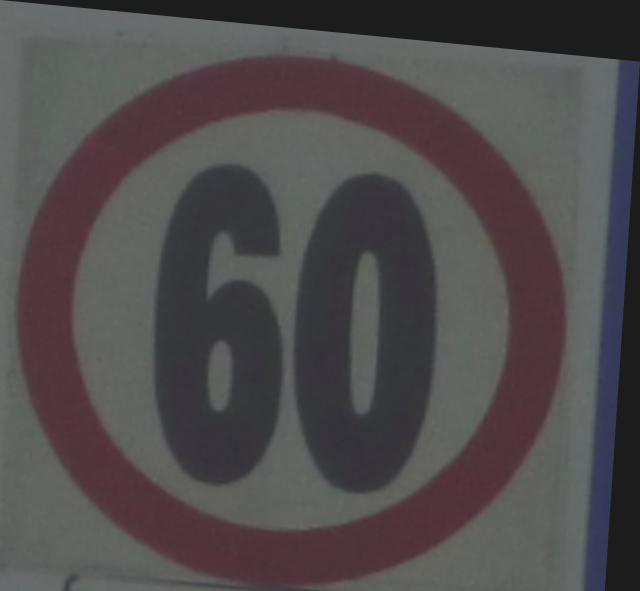limit60: (0, 20, 591, 591)
